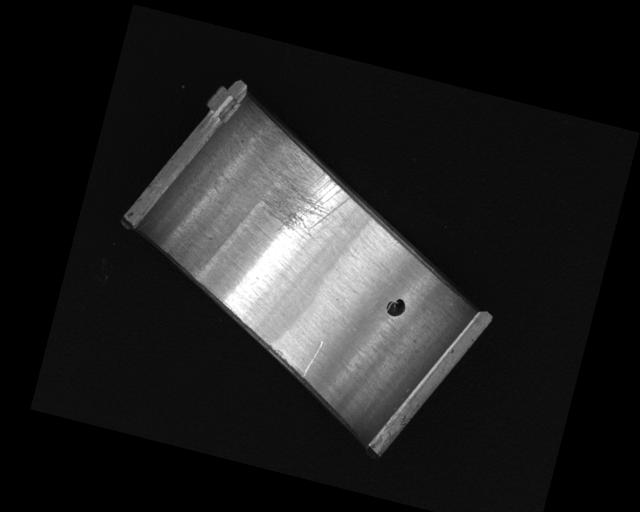blot: (383, 295, 408, 319)
nick: (301, 338, 323, 379)
scratch: (242, 122, 363, 247)
